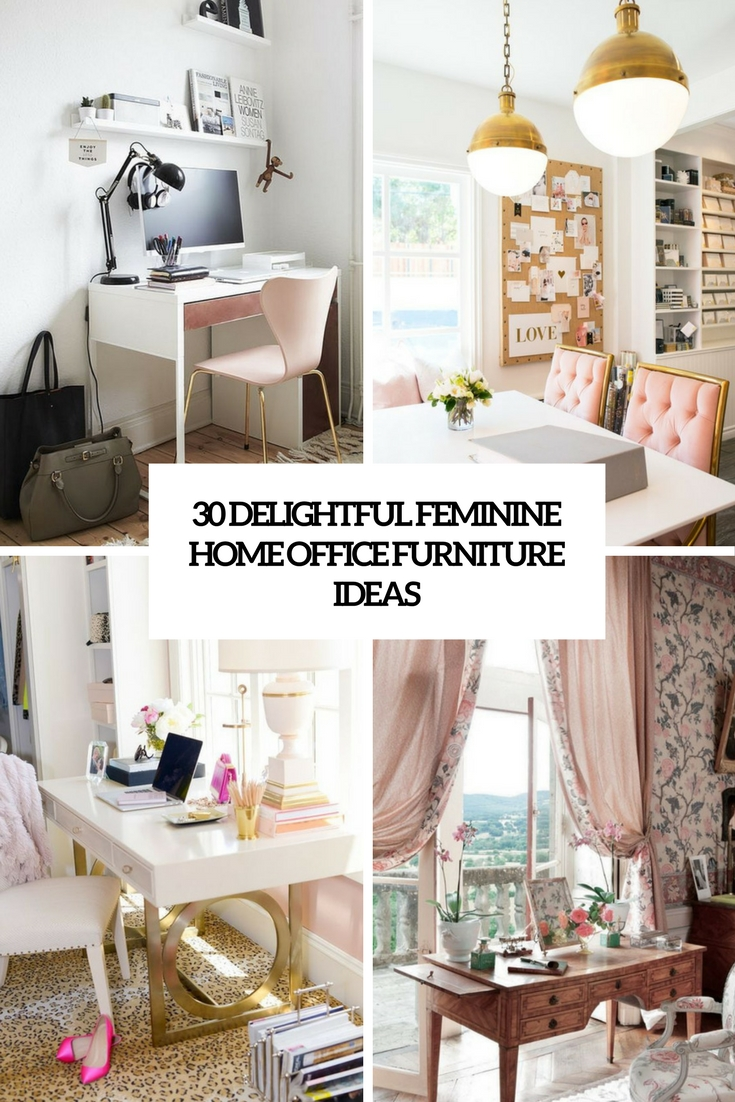chairs: (1, 744, 145, 1034), (175, 271, 344, 467), (630, 360, 722, 550), (538, 330, 613, 447)
